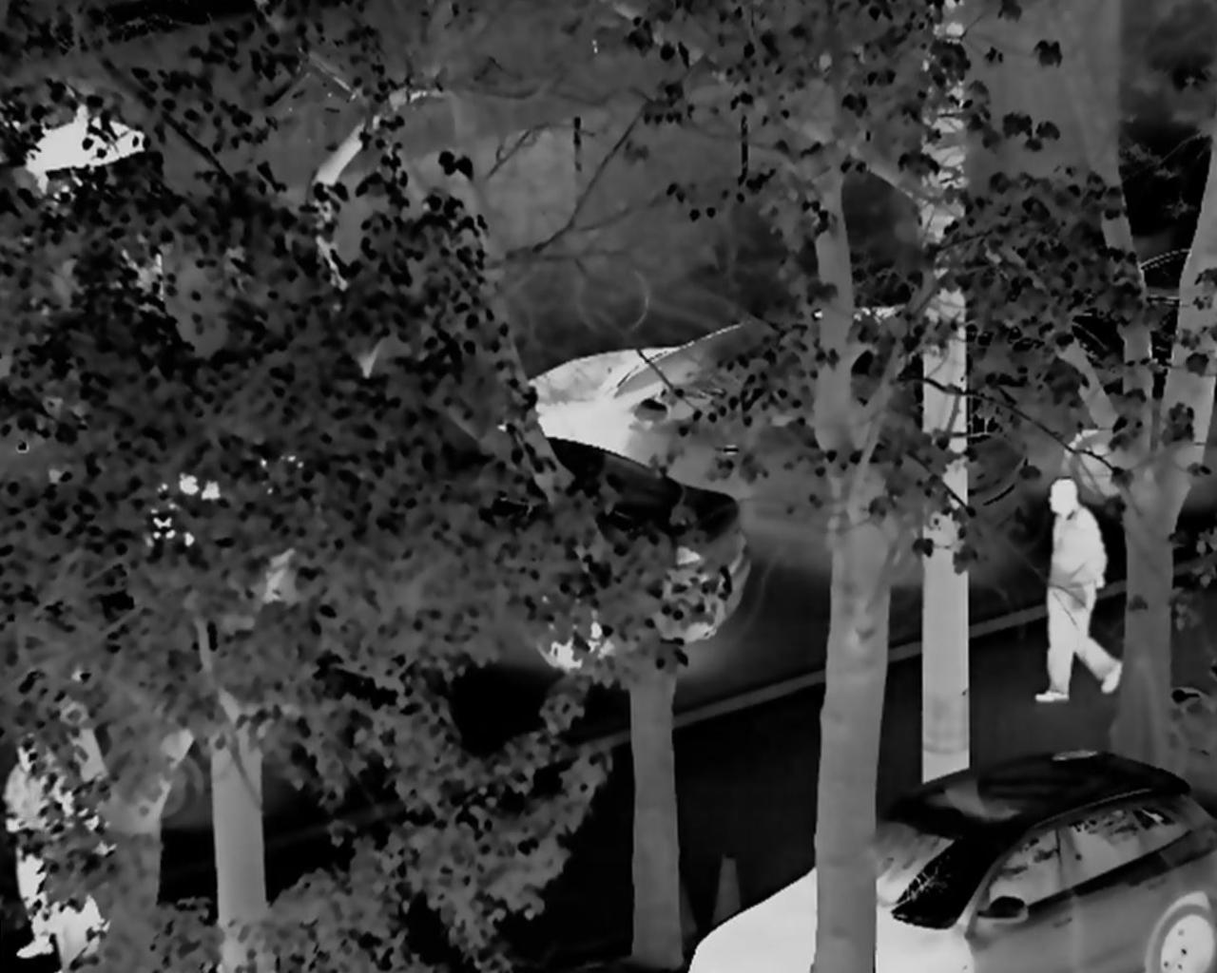person: (1033, 472, 1122, 704)
